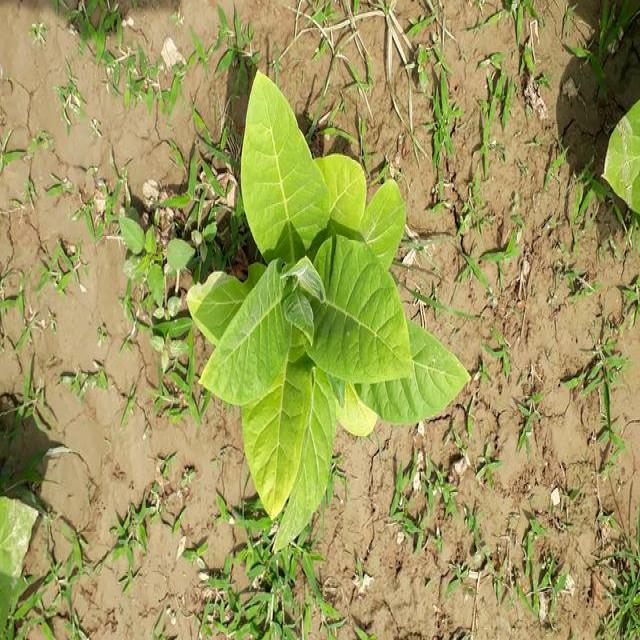crop: (187, 64, 456, 541)
